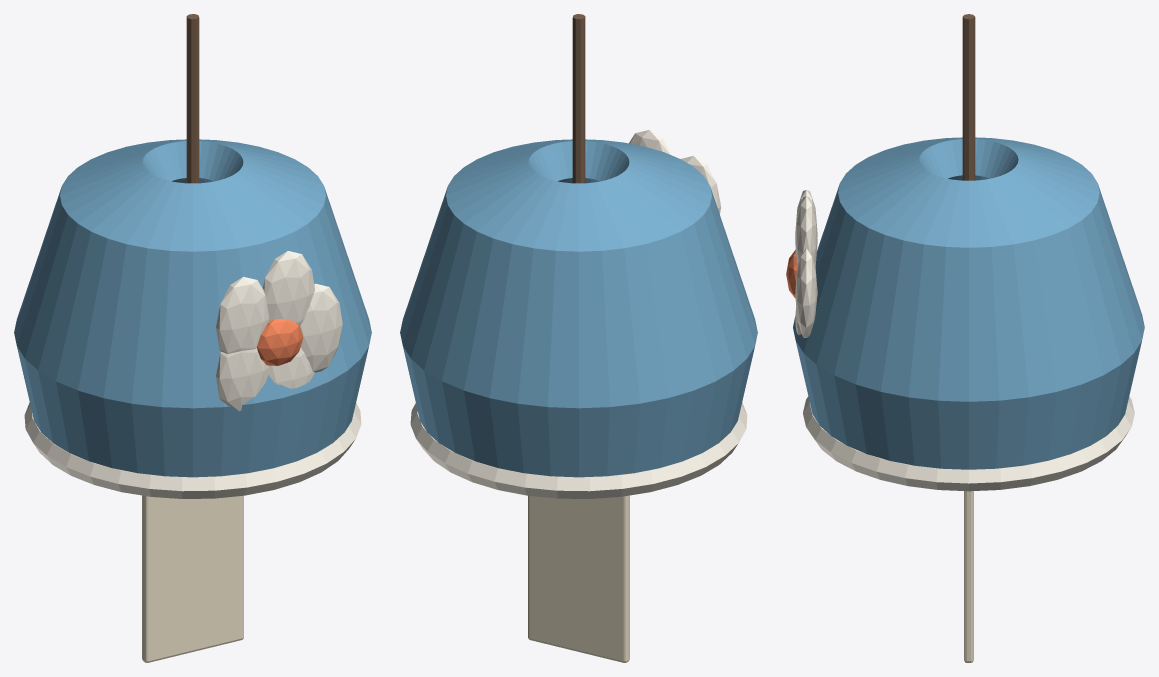
File: home_furin.glb
The picture shows the model from 3 angles, left to right: view 1: azimuth 30°, elevation 25°; view 2: azimuth 150°, elevation 25°; view 3: azimuth 270°, elevation 25°; orthographic projection.
Visible parts, largest first — view 1: Furin handblown glass chime, White rectangular wind sail, Glass lower beaded rim, Painted flower on chime_petal02, Painted flower on chime_petal01, Painted flower on chime_petal00, Painted flower on chime_petal03, Thin hanging string, Painted flower on chime_center, Painted flower on chime_petal04; view 2: Furin handblown glass chime, White rectangular wind sail, Glass lower beaded rim, Thin hanging string, Painted flower on chime_petal02, Painted flower on chime_petal01; view 3: Furin handblown glass chime, Glass lower beaded rim, Thin hanging string, White rectangular wind sail, Painted flower on chime_petal00, Painted flower on chime_petal01.
Part boxes in pixels (x1,y1,x2,y2): Furin handblown glass chime: (14,139,371,477); White rectangular wind sail: (142,495,243,662); Glass lower beaded rim: (24,402,361,498); Painted flower on chime_petal02: (216,276,269,353); Painted flower on chime_petal01: (263,251,314,326); Painted flower on chime_petal00: (300,283,342,372); Painted flower on chime_petal03: (216,348,268,411); Thin hanging string: (186,14,199,183); Painted flower on chime_center: (257,319,303,365); Painted flower on chime_petal04: (268,347,314,388); Furin handblown glass chime: (400,139,757,477); White rectangular wind sail: (528,495,629,662); Glass lower beaded rim: (410,402,747,498); Thin hanging string: (572,14,585,183); Painted flower on chime_petal02: (681,156,720,214); Painted flower on chime_petal01: (629,130,670,154); Furin handblown glass chime: (793,137,1144,469); Glass lower beaded rim: (803,396,1134,491); Thin hanging string: (962,14,975,180); White rectangular wind sail: (964,491,973,662); Painted flower on chime_petal00: (795,248,817,337); Painted flower on chime_petal01: (795,196,817,265).
Size of the model in its own units: 0.9974 by 1.95 by 1.02.
